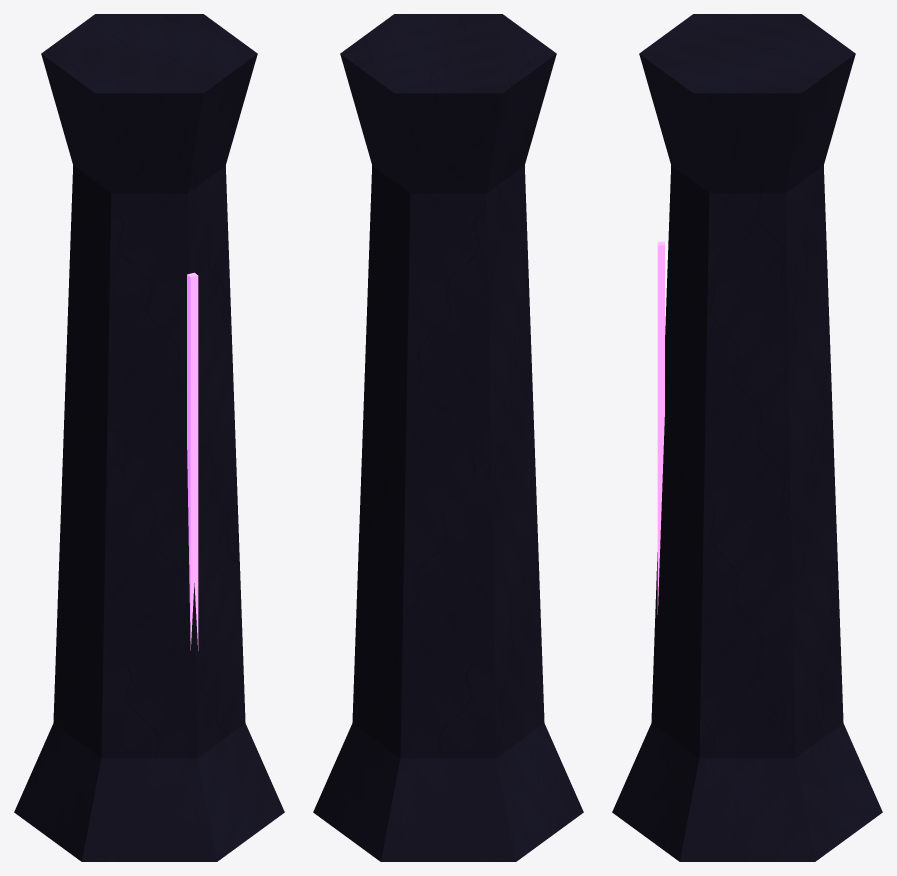
File: Ruin_Pillar.glb
The picture shows the model from 3 angles, left to right: view 1: azimuth 30°, elevation 25°; view 2: azimuth 150°, elevation 25°; view 3: azimuth 270°, elevation 25°; orthographic projection.
Parts seen in each view (by area): view 1: Ruin_Pillar; view 2: Ruin_Pillar; view 3: Ruin_Pillar.
Boxes of the visible parts, left/top/right/bottom form: Ruin_Pillar: left=14, top=14, right=284, bottom=861; Ruin_Pillar: left=313, top=14, right=583, bottom=861; Ruin_Pillar: left=612, top=14, right=882, bottom=861.
Bounding box in the file's own units: 0.9526 × 3.4 × 1.1.
2 materials, 1 textured.
